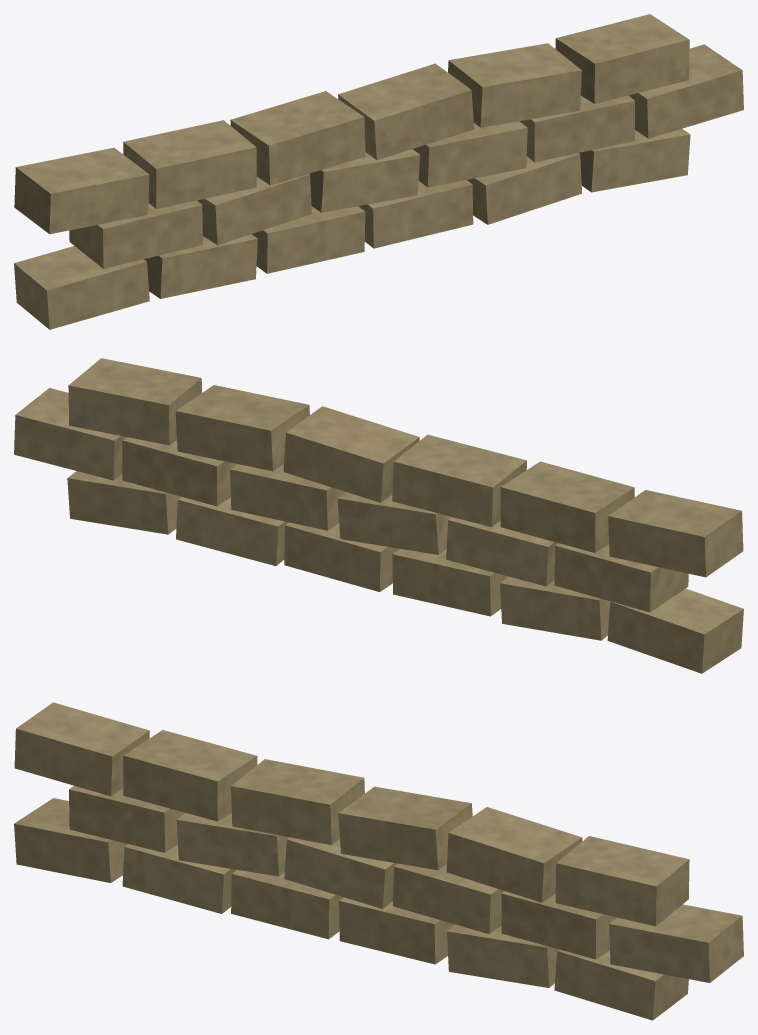
The model's file is sandbag_wall.glb.
The picture shows the model from 3 angles, top to bottom: view 1: azimuth 30°, elevation 25°; view 2: azimuth 150°, elevation 25°; view 3: azimuth 330°, elevation 25°; orthographic projection.
Parts seen in each view (by area): view 1: SandbagWall; view 2: SandbagWall; view 3: SandbagWall.
Boxes of the visible parts, x1=… form: SandbagWall: x1=14, y1=14, x2=743, y2=329; SandbagWall: x1=14, y1=358, x2=743, y2=673; SandbagWall: x1=14, y1=702, x2=743, y2=1020.
Bounding box in the file's own units: 4 × 0.7585 × 0.3895.
1 material, 1 textured.
